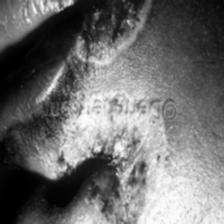Toxin: (62, 130, 156, 224), (60, 0, 148, 59)
